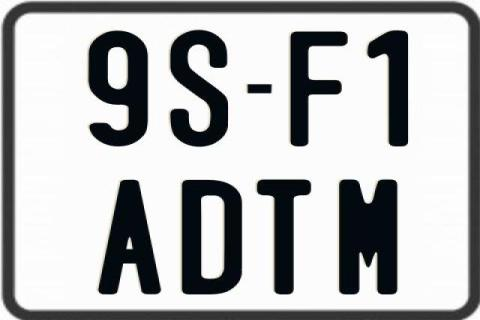0: (85, 30, 150, 150), (365, 30, 411, 146)
A: (98, 180, 162, 295)
D: (179, 180, 239, 298)
F: (288, 30, 351, 146)
M: (336, 177, 400, 295)
S: (169, 29, 227, 149)
T: (258, 177, 314, 293)
